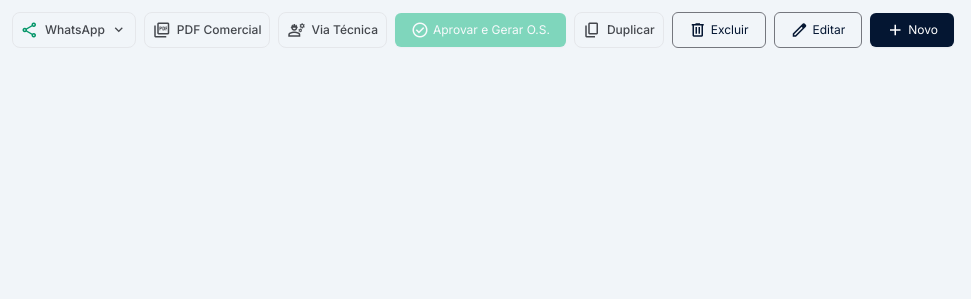
Test case: BudgetDetailActions Component [Joseph Nichollas] › WhatsApp Dropdown & Ações › deve abrir menu do WhatsApp e exibir opções de envio direto, cópia, personalização e PDF
What coordinates should you click on to do the following:
click the button "WhatsApp"
I would click on:
 (74, 30)
Its box is [12,12,136,48].
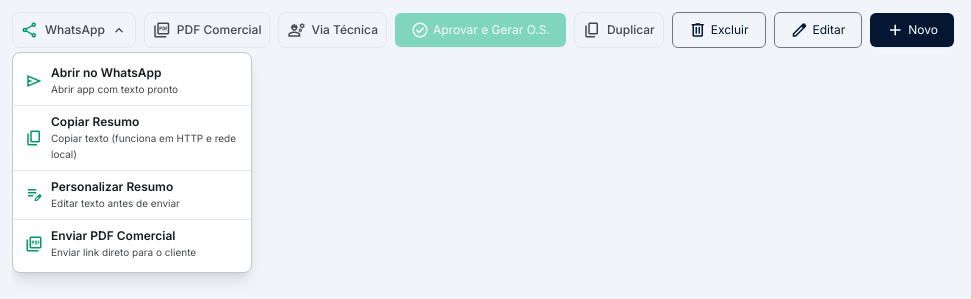
Expected: the text "Abrir no WhatsApp" is shown, [51,65,178,81]
Expected: the text "Copiar Resumo" is shown, [51,114,139,129]
Expected: the text "Personalizar Resumo" is shown, [51,179,180,195]
